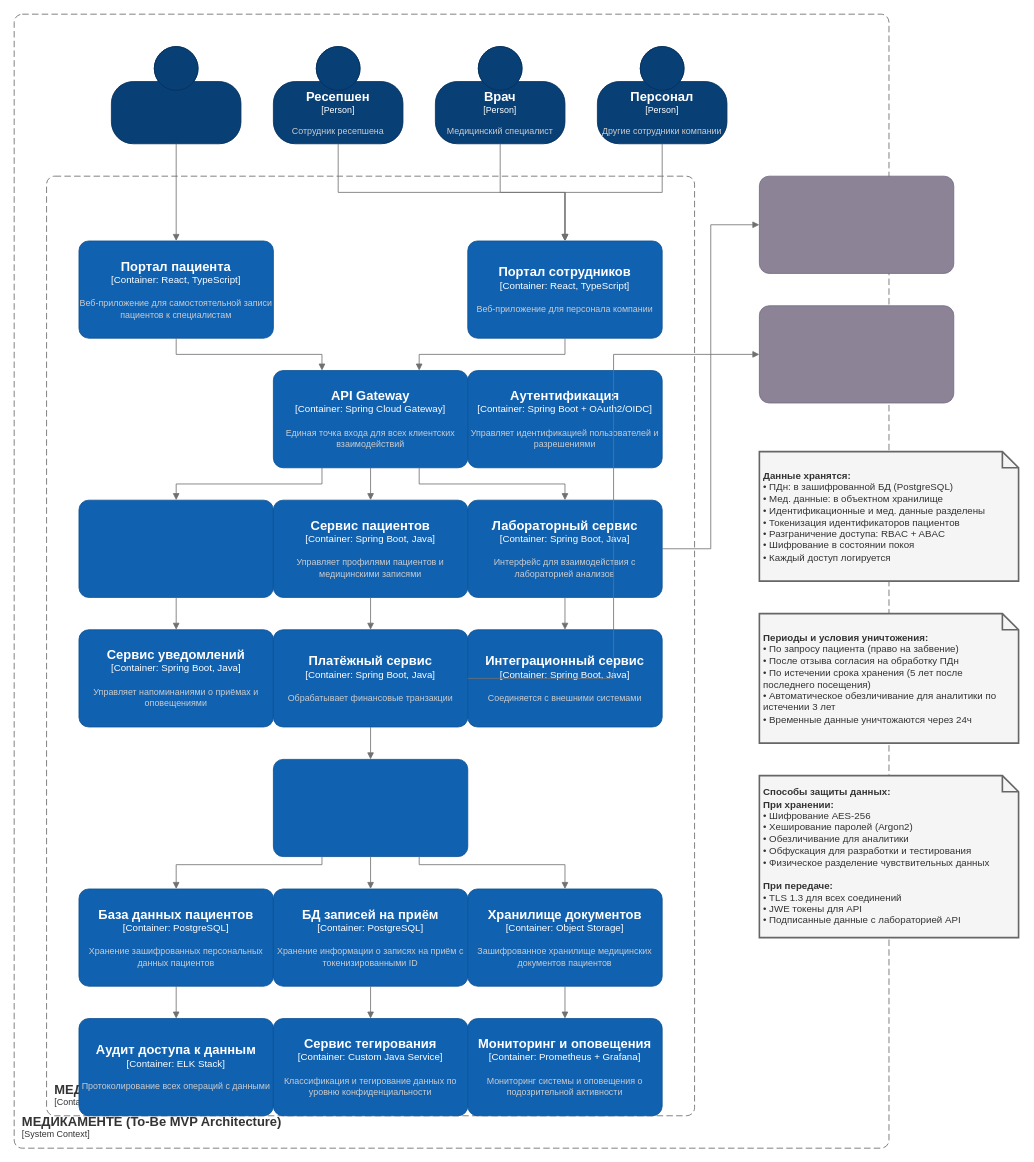
This 1034x1162 diagram has some shape labels left out. The centre of each missing label's shape, as x and y in pixels:
"Laboratory API [Software System] Внешняя лаборатория анализов" belongs at pixel 856 224.
"Payment Gateway [Software System] Платёжный шлюз" belongs at pixel 856 354.
"Интеграция с 1С [Container: Java API + 1C API] Интеграция с системами 1С" belongs at pixel 370 808.
"Пациент [Person] Клиент медицинского центра" belongs at pixel 176 95.
"Сервис записи [Container: Spring Boot, Java] Управляет расписанием и записями" belongs at pixel 175 548.
